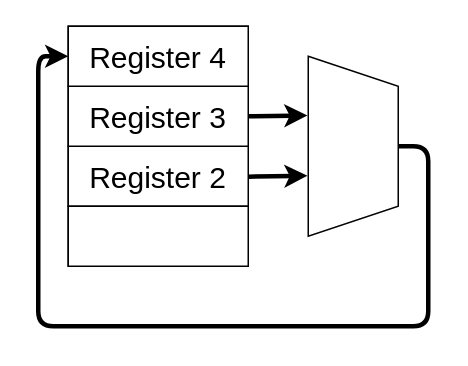
The diagram is 468 pixels wide and 366 high, and some of its shapes have lost their labels. Each missing label, with the box of its shape:
ALU: (307, 55, 398, 236)
Register 1: (67, 205, 248, 266)
